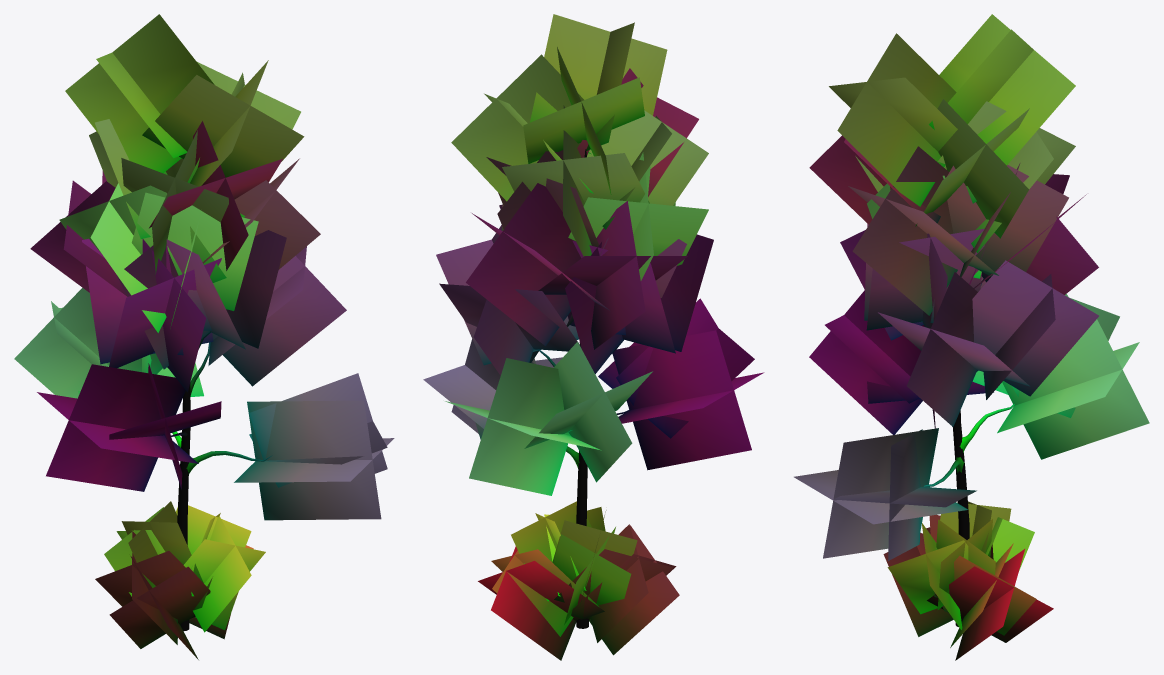
File: URP_P12_Tree_2_LOD_2.fbx
3 views of the same model, side by side, from view 1: azimuth 30°, elevation 25°; view 2: azimuth 150°, elevation 25°; view 3: azimuth 270°, elevation 25° (orthographic).
Visible parts, largest first — view 1: Tree_2_LOD_2; view 2: Tree_2_LOD_2; view 3: Tree_2_LOD_2.
Boxes of the visible parts, x1,y1,x2,y2 form: Tree_2_LOD_2: (14, 14, 394, 659); Tree_2_LOD_2: (423, 14, 764, 660); Tree_2_LOD_2: (794, 14, 1149, 660).
Bounding box in the file's own units: 198 × 362 × 191.
